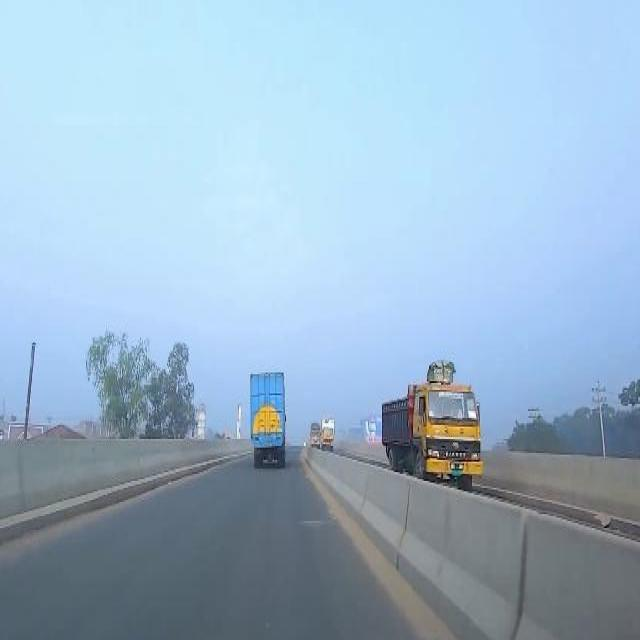vehicle: (381, 356, 483, 487), (251, 371, 288, 465), (321, 415, 335, 446), (311, 420, 320, 444)
